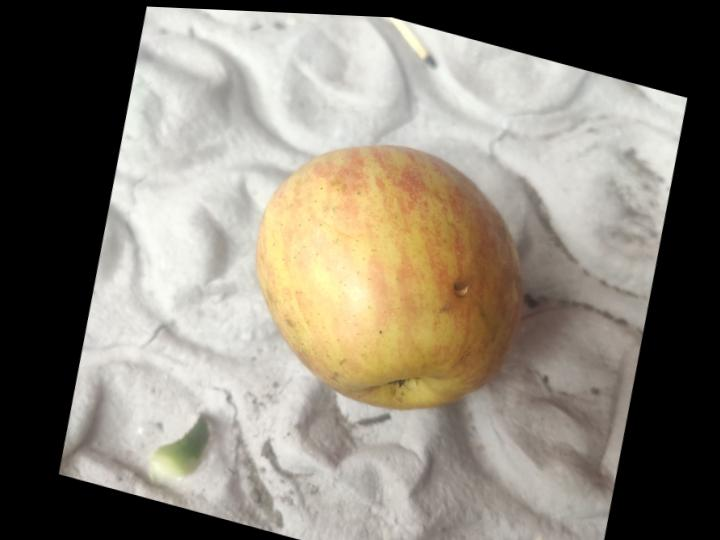apple: (255, 146, 522, 409)
surface_damage: (452, 281, 467, 297), (329, 177, 341, 185)
